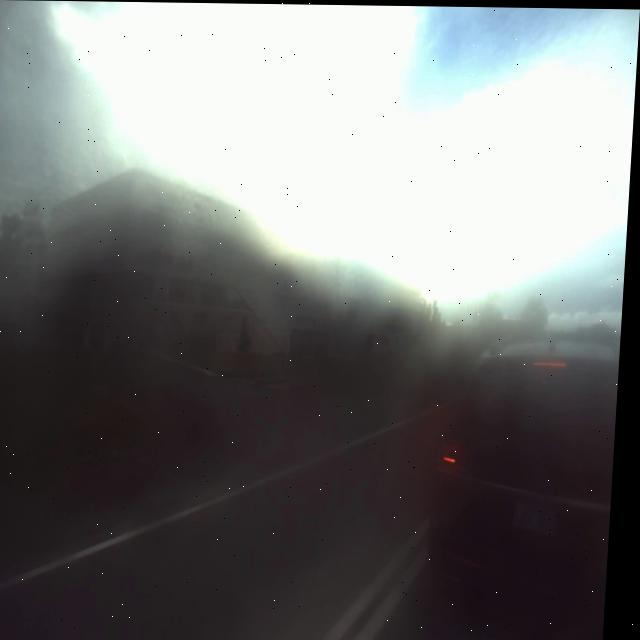car: (439, 326, 625, 571)
